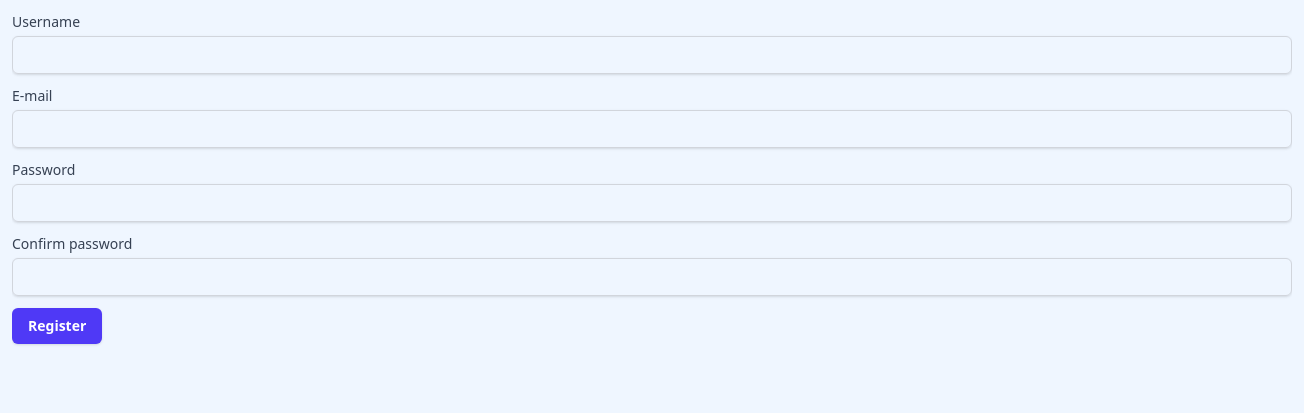
Test case: AuthForm › impede registro com senhas diferentes
Type "alice" into the field labelled "Username".
click(652, 55); type("alice")  # box [12, 36, 1292, 74]
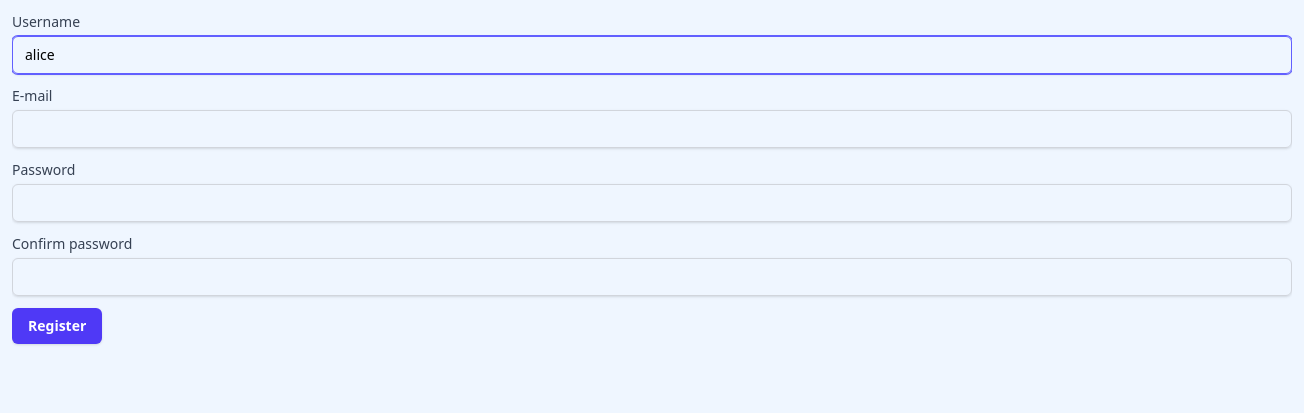
Type "alice@mail.com" into the field labelled "E-mail".
click(652, 129); type("alice@mail.com")  # box [12, 110, 1292, 148]
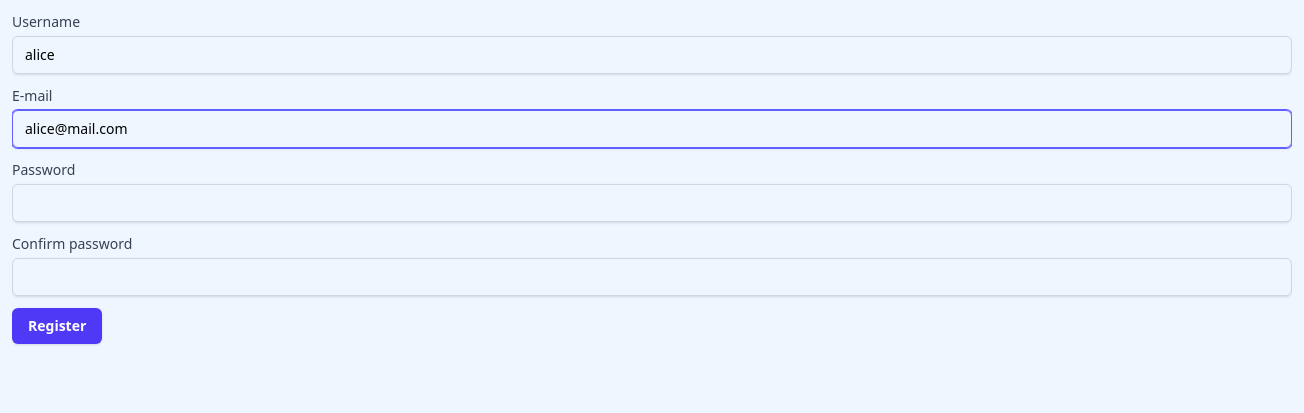
Type "123456" into the password field labelled "Password".
click(652, 203); type("123456")  # box [12, 184, 1292, 222]
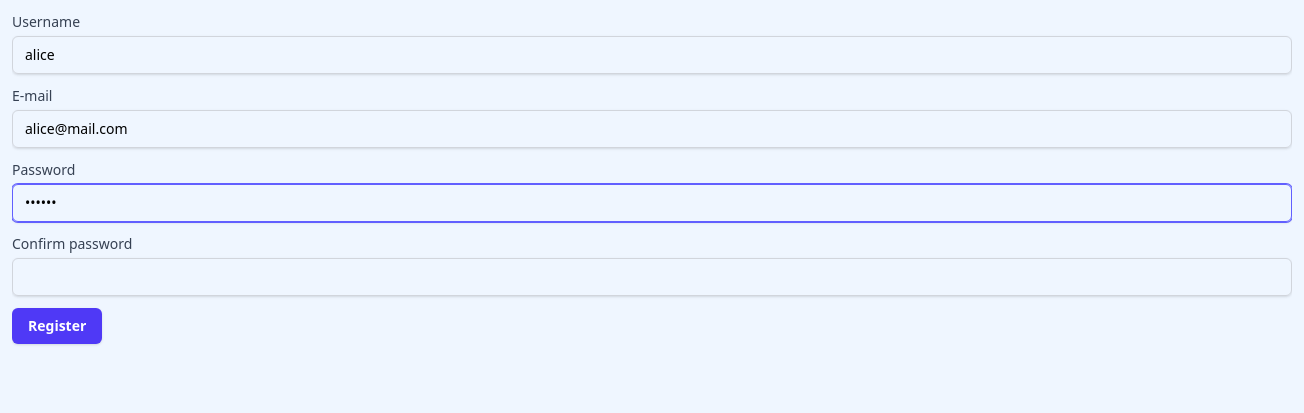
Type "654321" into the password field labelled "Confirm password".
click(652, 277); type("654321")  # box [12, 258, 1292, 296]
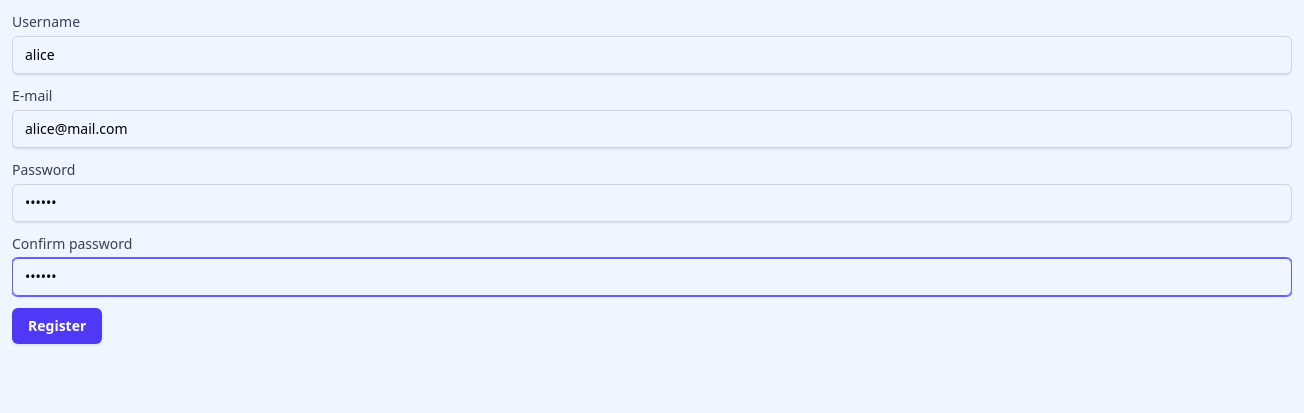
Click the button "Register".
click(57, 326)  # box [12, 308, 102, 344]
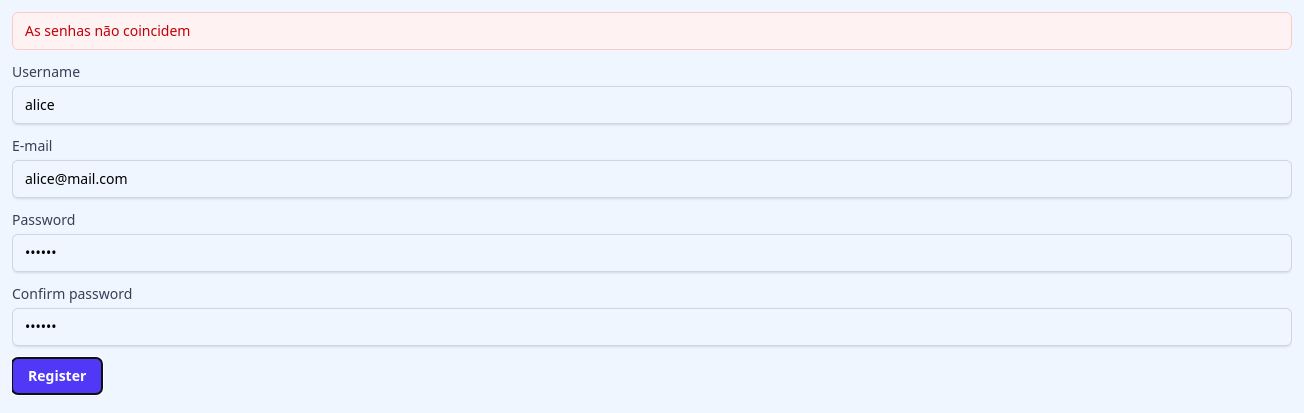
Result: the text "As senhas não coincidem" is shown at [12, 12, 1292, 50]
